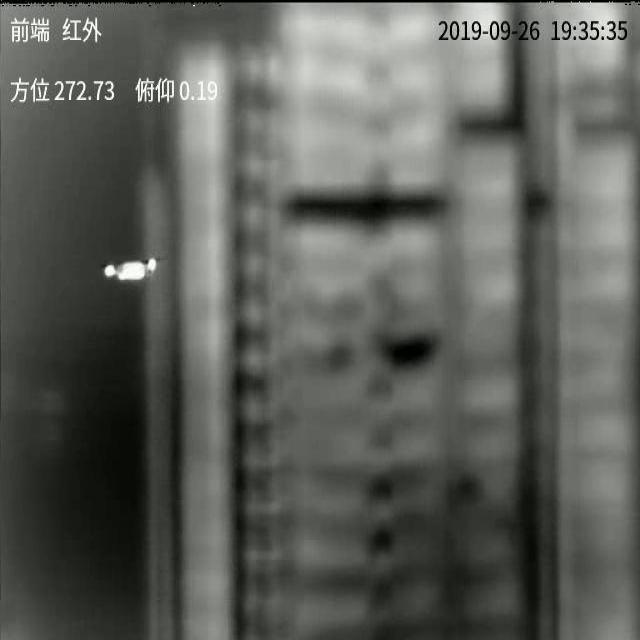drone: (99, 256, 165, 281)
